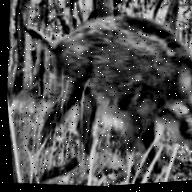boar: (5, 0, 192, 176)
